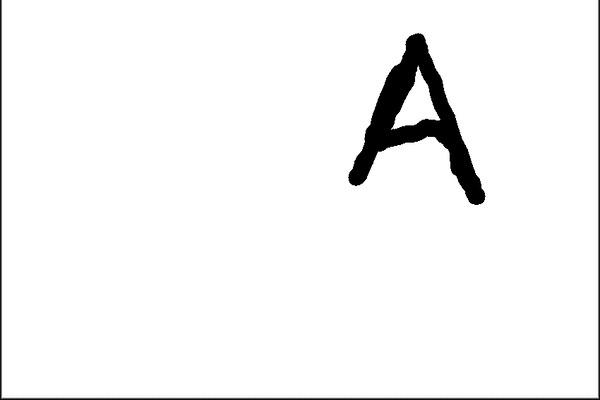A: (336, 26, 486, 213)
